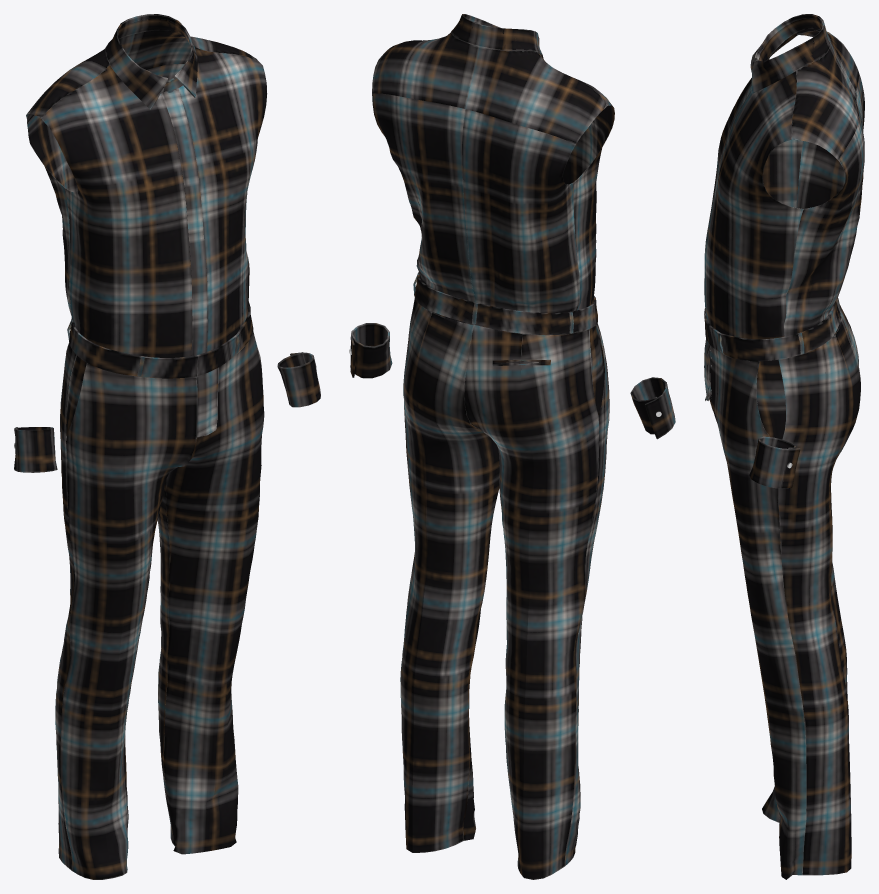
Rendered from shirtpant.glb.
3 renders of one model, left to right at view 1: azimuth 30°, elevation 25°; view 2: azimuth 150°, elevation 25°; view 3: azimuth 270°, elevation 25°, orthographic.
Parts seen in each view (by area): view 1: pant (×7), shirt (×10); view 2: pant (×6), shirt (×8); view 3: pant (×5), shirt (×10).
Part boxes in pixels (bbox=[...]): pant (×7): bbox=[55, 301, 264, 879]; shirt (×10): bbox=[14, 14, 320, 472]; pant (×6): bbox=[400, 272, 609, 879]; shirt (×8): bbox=[350, 14, 675, 439]; pant (×5): bbox=[704, 300, 860, 879]; shirt (×10): bbox=[704, 14, 864, 488].
Bounding box in the file's own units: 612 × 1568 × 280.
Materials: 33 (32 with a texture image).
